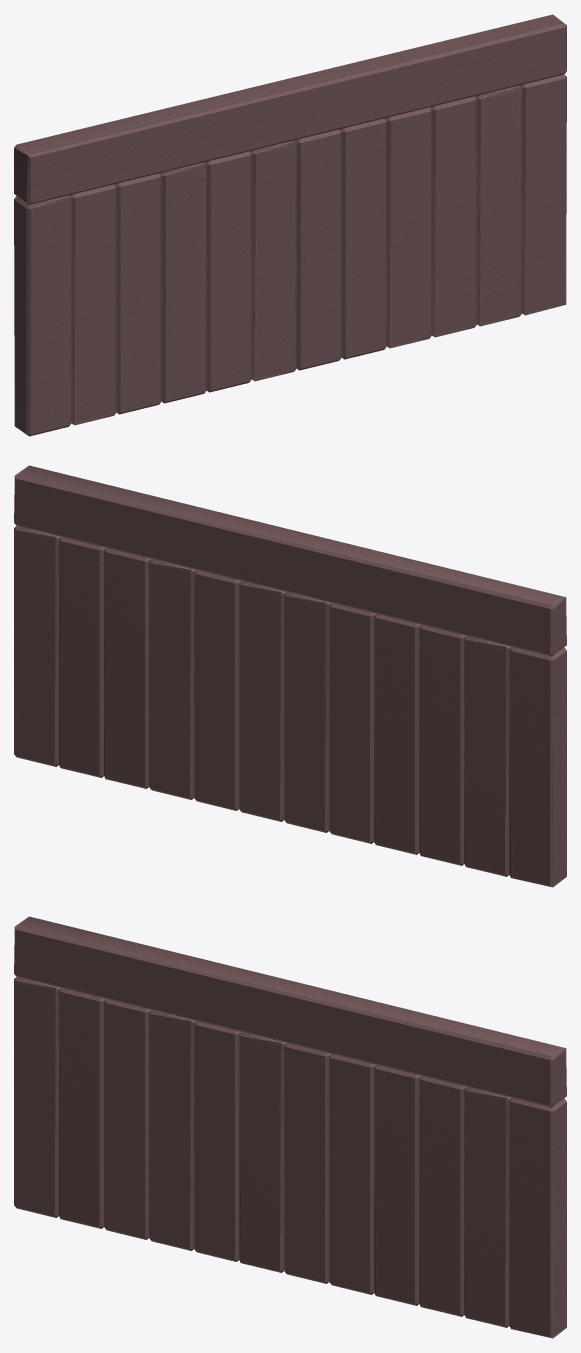
The model's file is house_separation_LOD0.fbx.
3 views of the same model, one above another, from view 1: azimuth 30°, elevation 25°; view 2: azimuth 150°, elevation 25°; view 3: azimuth 330°, elevation 25° (orthographic).
Visible parts, largest first — view 1: house_separation_LOD0; view 2: house_separation_LOD0; view 3: house_separation_LOD0.
Part boxes in pixels (<box>): house_separation_LOD0: <box>14,14,566,436</box>; house_separation_LOD0: <box>14,465,566,887</box>; house_separation_LOD0: <box>14,916,566,1338</box>.
Bounding box in the file's own units: 400 × 200 × 20.
